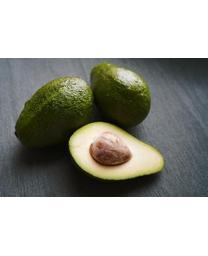avocado: (69, 121, 166, 185), (14, 77, 97, 150), (89, 62, 151, 130)
